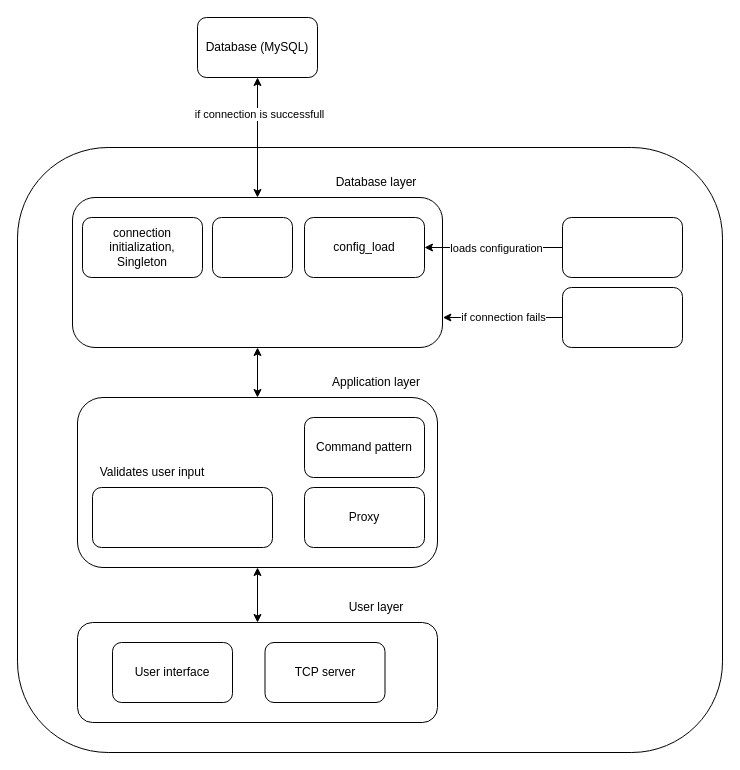
This 740x770 diagram has some shape labels left out. The centre of each missing label's shape, as x and y in pixels:
config.json: pixel 622 247
DAO: pixel 252 247
Input Validation (parser): pixel 182 517
SQLite: pixel 622 317
